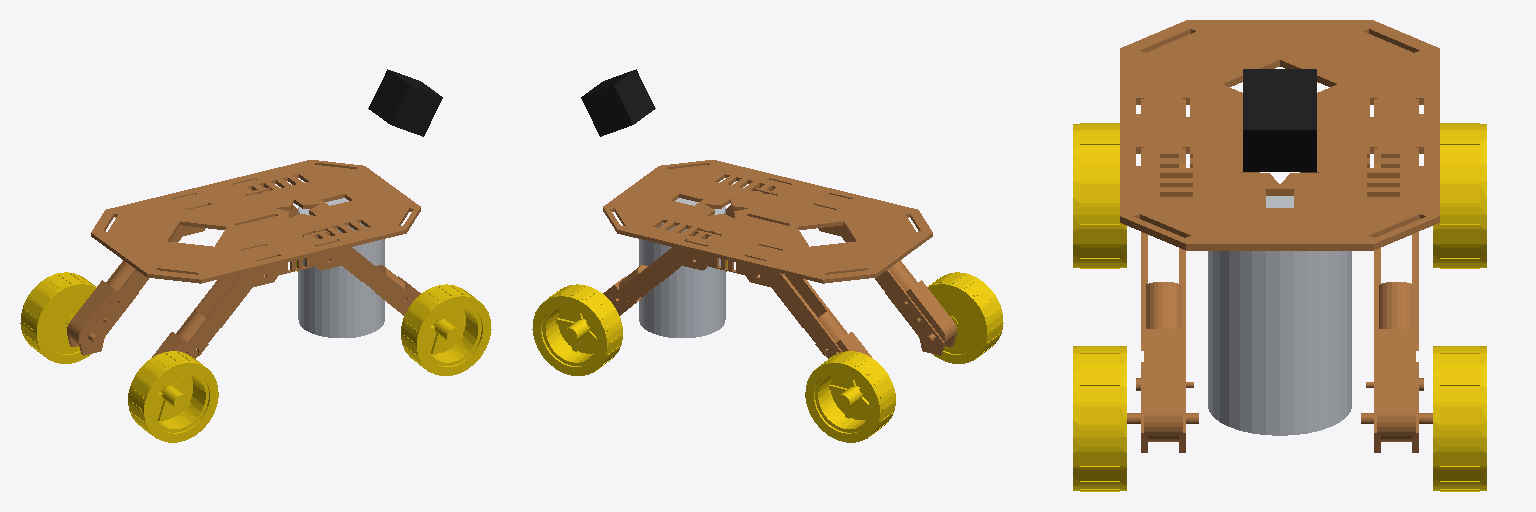
URDF robot description (weed_laser_robot):
<?xml version="1.0"?>
<robot name="weed_laser_robot">

  <!-- ========================================== -->
  <!-- Materials & Colors                         -->
  <!-- ========================================== -->
  <material name="wood_brown">
    <color rgba="0.72 0.50 0.30 1.0"/>
  </material>

  <material name="yellow_plastic">
    <color rgba="0.95 0.82 0.08 1.0"/>
  </material>

  <material name="tire_black">
    <color rgba="0.15 0.15 0.15 1.0"/>
  </material>

  <material name="silver_metal">
    <color rgba="0.80 0.82 0.85 1.0"/>
  </material>

  <!-- ========================================== -->
  <!-- Base Footprint (Ground Projection Z = 0)   -->
  <!-- ========================================== -->
  <link name="base_footprint"/>

  <joint name="base_footprint_joint" type="fixed">
    <parent link="base_footprint"/>
    <child link="base_link"/>
    <origin xyz="0.0 0.0 0.0" rpy="0 0 0"/>
  </joint>

  <!-- ========================================== -->
  <!-- Base Link (Chassis Frame + Fixed Motors)   -->
  <!-- ========================================== -->
  <link name="base_link">
    <inertial>
      <mass value="0.650"/>
      <origin xyz="0.0 0.0 0.095" rpy="0 0 0"/>
      <inertia ixx="0.0021" ixy="0.0" ixz="0.0"
               iyy="0.0042" iyz="0.0"
               izz="0.0051"/>
    </inertial>

    <visual>
      <origin xyz="0.0 0.0 0.0" rpy="0 0 0"/>
      <geometry>
        <mesh filename="package://weed_laser_robot/meshes/chassis_base.stl" scale="0.001 0.001 0.001"/>
      </geometry>
      <material name="wood_brown"/>
    </visual>

    <collision>
      <origin xyz="0.0 0.0 0.12675" rpy="0 0 0"/>
      <geometry>
        <box size="0.256 0.155 0.0035"/>
      </geometry>
    </collision>
    <collision>
      <origin xyz="0.0 0.0565 0.080" rpy="0 0 0"/>
      <geometry>
        <box size="0.255 0.022 0.090"/>
      </geometry>
    </collision>
    <collision>
      <origin xyz="0.0 -0.0565 0.080" rpy="0 0 0"/>
      <geometry>
        <box size="0.255 0.022 0.090"/>
      </geometry>
    </collision>
  </link>

  <!-- ========================================== -->
  <!-- Wheels (4WD Skid Steer)                    -->
  <!-- ========================================== -->

  <!-- Front Left Wheel -->
  <link name="front_left_wheel_link">
    <inertial>
      <mass value="0.045"/>
      <origin xyz="0 0 0" rpy="0 0 0"/>
      <inertia ixx="0.000016" ixy="0.0" ixz="0.0" iyy="0.000027" iyz="0.0" izz="0.000016"/>
    </inertial>
    <visual>
      <origin xyz="0 0 0" rpy="0 0 0"/>
      <geometry>
        <mesh filename="package://weed_laser_robot/meshes/wheel.stl" scale="0.001 0.001 0.001"/>
      </geometry>
      <material name="yellow_plastic"/>
    </visual>
    <collision>
      <origin xyz="0 0 0" rpy="1.570796 0 0"/>
      <geometry>
        <cylinder radius="0.035" length="0.026"/>
      </geometry>
    </collision>
  </link>
  <joint name="front_left_wheel_joint" type="continuous">
    <parent link="base_link"/>
    <child link="front_left_wheel_link"/>
    <origin xyz="0.1275 0.087 0.035" rpy="0 0 0"/>
    <axis xyz="0 1 0"/>
    <limit effort="1.5" velocity="25.0"/>
    <dynamics damping="0.01" friction="0.05"/>
  </joint>

  <!-- Rear Left Wheel -->
  <link name="rear_left_wheel_link">
    <inertial>
      <mass value="0.045"/>
      <origin xyz="0 0 0" rpy="0 0 0"/>
      <inertia ixx="0.000016" ixy="0.0" ixz="0.0" iyy="0.000027" iyz="0.0" izz="0.000016"/>
    </inertial>
    <visual>
      <origin xyz="0 0 0" rpy="0 0 0"/>
      <geometry>
        <mesh filename="package://weed_laser_robot/meshes/wheel.stl" scale="0.001 0.001 0.001"/>
      </geometry>
      <material name="yellow_plastic"/>
    </visual>
    <collision>
      <origin xyz="0 0 0" rpy="1.570796 0 0"/>
      <geometry>
        <cylinder radius="0.035" length="0.026"/>
      </geometry>
    </collision>
  </link>
  <joint name="rear_left_wheel_joint" type="continuous">
    <parent link="base_link"/>
    <child link="rear_left_wheel_link"/>
    <origin xyz="-0.1275 0.087 0.035" rpy="0 0 0"/>
    <axis xyz="0 1 0"/>
    <limit effort="1.5" velocity="25.0"/>
    <dynamics damping="0.01" friction="0.05"/>
  </joint>

  <!-- Front Right Wheel -->
  <link name="front_right_wheel_link">
    <inertial>
      <mass value="0.045"/>
      <origin xyz="0 0 0" rpy="0 0 0"/>
      <inertia ixx="0.000016" ixy="0.0" ixz="0.0" iyy="0.000027" iyz="0.0" izz="0.000016"/>
    </inertial>
    <visual>
      <origin xyz="0 0 0" rpy="0 0 3.14159"/>
      <geometry>
        <mesh filename="package://weed_laser_robot/meshes/wheel.stl" scale="0.001 0.001 0.001"/>
      </geometry>
      <material name="yellow_plastic"/>
    </visual>
    <collision>
      <origin xyz="0 0 0" rpy="1.570796 0 0"/>
      <geometry>
        <cylinder radius="0.035" length="0.026"/>
      </geometry>
    </collision>
  </link>
  <joint name="front_right_wheel_joint" type="continuous">
    <parent link="base_link"/>
    <child link="front_right_wheel_link"/>
    <origin xyz="0.1275 -0.087 0.035" rpy="0 0 0"/>
    <axis xyz="0 1 0"/>
    <limit effort="1.5" velocity="25.0"/>
    <dynamics damping="0.01" friction="0.05"/>
  </joint>

  <!-- Rear Right Wheel -->
  <link name="rear_right_wheel_link">
    <inertial>
      <mass value="0.045"/>
      <origin xyz="0 0 0" rpy="0 0 0"/>
      <inertia ixx="0.000016" ixy="0.0" ixz="0.0" iyy="0.000027" iyz="0.0" izz="0.000016"/>
    </inertial>
    <visual>
      <origin xyz="0 0 0" rpy="0 0 3.14159"/>
      <geometry>
        <mesh filename="package://weed_laser_robot/meshes/wheel.stl" scale="0.001 0.001 0.001"/>
      </geometry>
      <material name="yellow_plastic"/>
    </visual>
    <collision>
      <origin xyz="0 0 0" rpy="1.570796 0 0"/>
      <geometry>
        <cylinder radius="0.035" length="0.026"/>
      </geometry>
    </collision>
  </link>
  <joint name="rear_right_wheel_joint" type="continuous">
    <parent link="base_link"/>
    <child link="rear_right_wheel_link"/>
    <origin xyz="-0.1275 -0.087 0.035" rpy="0 0 0"/>
    <axis xyz="0 1 0"/>
    <limit effort="1.5" velocity="25.0"/>
    <dynamics damping="0.01" friction="0.05"/>
  </joint>

  <!-- ========================================== -->
  <!-- Gazebo Skid-Steer / Diff-Drive Plugin      -->
  <!-- ========================================== -->
  <gazebo>
    <plugin name="skid_steer_drive_controller" filename="libgazebo_ros_diff_drive.so">
      <ros>
        <namespace>/</namespace>
        <remapping>cmd_vel:=cmd_vel</remapping>
        <remapping>odom:=odom</remapping>
      </ros>
      <update_rate>50</update_rate>
      <num_wheel_pairs>2</num_wheel_pairs>
      <left_joint>front_left_wheel_joint</left_joint>
      <left_joint>rear_left_wheel_joint</left_joint>
      <right_joint>front_right_wheel_joint</right_joint>
      <right_joint>rear_right_wheel_joint</right_joint>
      <wheel_separation>0.174</wheel_separation>
      <wheel_diameter>0.070</wheel_diameter>
      <max_wheel_torque>2.0</max_wheel_torque>
      <max_wheel_acceleration>1.5</max_wheel_acceleration>
      <publish_odom>true</publish_odom>
      <publish_odom_tf>true</publish_odom_tf>
      <publish_wheel_tf>true</publish_wheel_tf>
      <odometry_frame>odom</odometry_frame>
      <robot_base_frame>base_footprint</robot_base_frame>
    </plugin>
  </gazebo>

  <!-- ================================================================== -->
  <!-- Co-Axial Rotating Turret (Revolute Yaw Joint + Lower Tool Ring)    -->
  <!-- ================================================================== -->
  <link name="turret_link">
    <visual>
      <origin xyz="0 0 0" rpy="0 0 0"/>
      <geometry>
        <cylinder radius="0.035" length="0.10"/>
      </geometry>
      <material name="silver_metal"/>
    </visual>
    <collision>
      <origin xyz="0 0 0" rpy="0 0 0"/>
      <geometry>
        <cylinder radius="0.035" length="0.10"/>
      </geometry>
    </collision>
    <inertial>
      <origin xyz="0 0 0" rpy="0 0 0"/>
      <mass value="0.450"/>
      <inertia ixx="0.0008" ixy="0.0" ixz="0.0" iyy="0.0008" iyz="0.0" izz="0.0003"/>
    </inertial>
  </link>

  <joint name="turret_yaw_joint" type="revolute">
    <parent link="base_link"/>
    <child link="turret_link"/>
    <origin xyz="0.08 0.0 0.07" rpy="0 0 0"/>
    <axis xyz="0 0 1"/>
    <limit lower="-0.6108" upper="0.6108" effort="2.5" velocity="3.0"/>
    <dynamics damping="0.15" friction="0.05"/>
  </joint>

  <!-- Tool Center Point (TCP) -->
  <link name="tool_tcp_link"/>
  <joint name="tool_tcp_joint" type="fixed">
    <parent link="turret_link"/>
    <child link="tool_tcp_link"/>
    <origin xyz="0.085 0.0 -0.045" rpy="0 0 0"/>
  </joint>

  <!-- ================================================================== -->
  <!-- MaixSense-A075V 3D Depth Camera (20cm height, 30 deg downward tilt)-->
  <!-- ================================================================== -->
  <link name="maixsense_link">
    <visual>
      <origin xyz="0 0 0" rpy="0 0 0"/>
      <geometry>
        <box size="0.036 0.036 0.036"/>
      </geometry>
      <material name="tire_black"/>
    </visual>
    <collision>
      <origin xyz="0 0 0" rpy="0 0 0"/>
      <geometry>
        <box size="0.036 0.036 0.036"/>
      </geometry>
    </collision>
    <inertial>
      <mass value="0.065"/>
      <inertia ixx="0.00001" ixy="0.0" ixz="0.0" iyy="0.00001" iyz="0.0" izz="0.00001"/>
    </inertial>
  </link>

  <joint name="maixsense_mount_joint" type="fixed">
    <parent link="base_link"/>
    <child link="maixsense_link"/>
    <origin xyz="0.14 0.0 0.20" rpy="0 0.523599 0"/>
  </joint>

  <link name="maixsense_optical_frame"/>
  <joint name="maixsense_optical_joint" type="fixed">
    <parent link="maixsense_link"/>
    <child link="maixsense_optical_frame"/>
    <origin xyz="0 0 0" rpy="-1.570796 0 -1.570796"/>
  </joint>

  <!-- Gazebo RGB-D Camera Sensor Plugin -->
  <gazebo reference="maixsense_link">
    <sensor name="maixsense_a075v" type="depth">
      <always_on>true</always_on>
      <update_rate>15.0</update_rate>
      <camera name="maixsense">
        <horizontal_fov>1.0472</horizontal_fov>
        <image>
          <width>320</width>
          <height>240</height>
          <format>R8G8B8</format>
        </image>
        <clip>
          <near>0.20</near>
          <far>2.00</far>
        </clip>
      </camera>
      <plugin name="maixsense_depth_controller" filename="libgazebo_ros_camera.so">
        <ros>
          <namespace>maixsense</namespace>
          <remapping>maixsense_a075v/image_raw:=color/image_raw</remapping>
          <remapping>maixsense_a075v/depth/image_raw:=depth/image_raw</remapping>
          <remapping>maixsense_a075v/points:=depth/points</remapping>
        </ros>
        <camera_name>a075v</camera_name>
        <frame_name>maixsense_optical_frame</frame_name>
        <hack_baseline>0.02</hack_baseline>
        <min_depth>0.20</min_depth>
        <max_depth>2.00</max_depth>
      </plugin>
    </sensor>
  </gazebo>

</robot>

--- What the picture shows (computed from the rendered views, not written in the file) ---
The picture shows the robot from 3 angles, left to right: view 1: azimuth 30°, elevation 25°; view 2: azimuth 150°, elevation 25°; view 3: azimuth 270°, elevation 25°; orthographic projection.
Model weed_laser_robot with 10 links and 9 joints (1 revolute, 4 continuous, 4 fixed), rooted at base_footprint, posed every joint at zero.
Links seen in each view (by area): view 1: base_link, rear_right_wheel_link, front_right_wheel_link, turret_link, rear_left_wheel_link, maixsense_link; view 2: base_link, rear_left_wheel_link, front_left_wheel_link, turret_link, rear_right_wheel_link, maixsense_link; view 3: base_link, turret_link, front_left_wheel_link, front_right_wheel_link, maixsense_link, rear_left_wheel_link, rear_right_wheel_link.
Boxes of the visible links, left/top/right/bottom form: base_link: left=67, top=160, right=420, bottom=358; rear_right_wheel_link: left=128, top=351, right=218, bottom=442; front_right_wheel_link: left=401, top=284, right=491, bottom=375; turret_link: left=298, top=198, right=384, bottom=337; rear_left_wheel_link: left=20, top=272, right=105, bottom=363; maixsense_link: left=368, top=69, right=442, bottom=136; base_link: left=603, top=160, right=956, bottom=358; rear_left_wheel_link: left=805, top=351, right=895, bottom=442; front_left_wheel_link: left=532, top=284, right=622, bottom=375; turret_link: left=639, top=198, right=725, bottom=337; rear_right_wheel_link: left=918, top=272, right=1003, bottom=363; maixsense_link: left=581, top=69, right=655, bottom=136; base_link: left=1120, top=20, right=1439, bottom=452; turret_link: left=1208, top=196, right=1351, bottom=435; front_left_wheel_link: left=1433, top=346, right=1486, bottom=491; front_right_wheel_link: left=1073, top=346, right=1126, bottom=491; maixsense_link: left=1243, top=69, right=1316, bottom=171; rear_left_wheel_link: left=1433, top=123, right=1486, bottom=268; rear_right_wheel_link: left=1073, top=123, right=1126, bottom=268.
Bounding box of the posed robot: 0.3275 × 0.2 × 0.225 m (x, y, z).
Meshes: 2 distinct files referenced, 5 mesh visuals loaded (2 binary STL).
